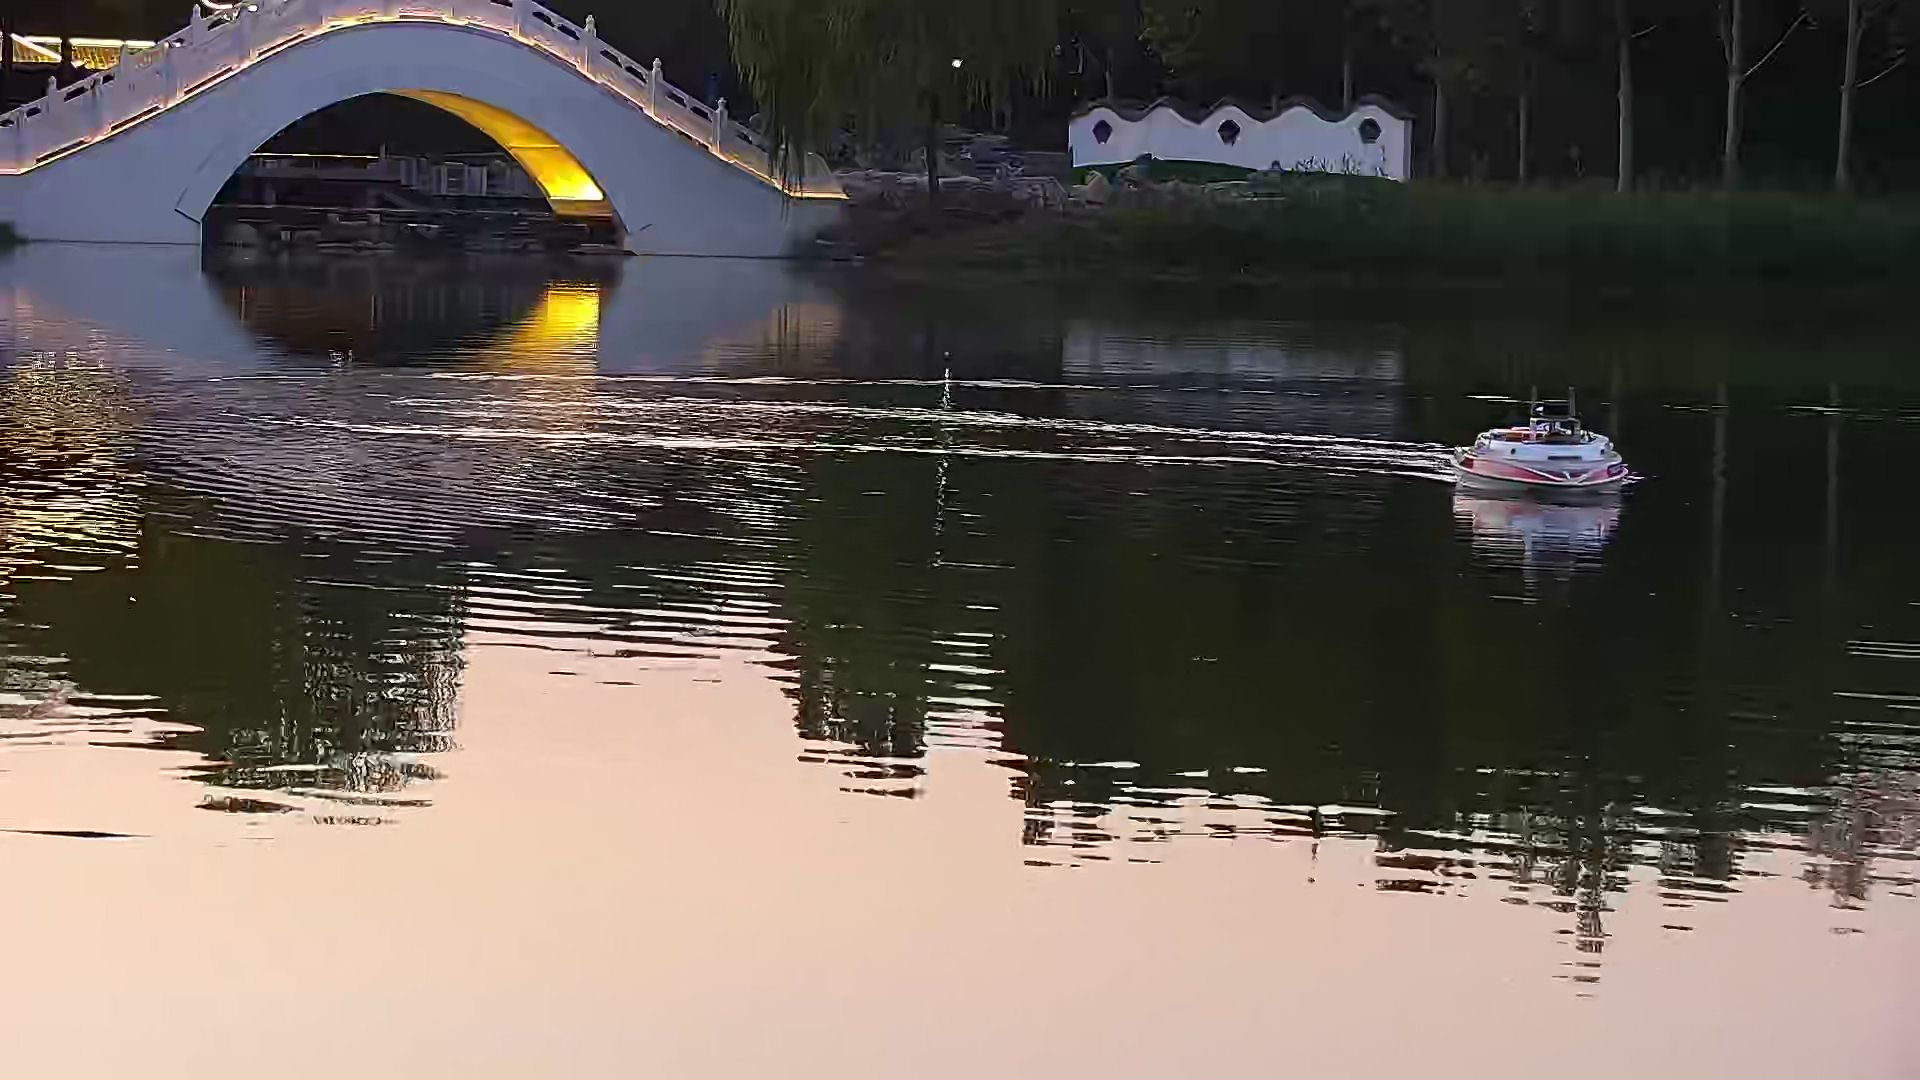boat: (1455, 394, 1629, 509)
bridge: (1, 4, 806, 255)
